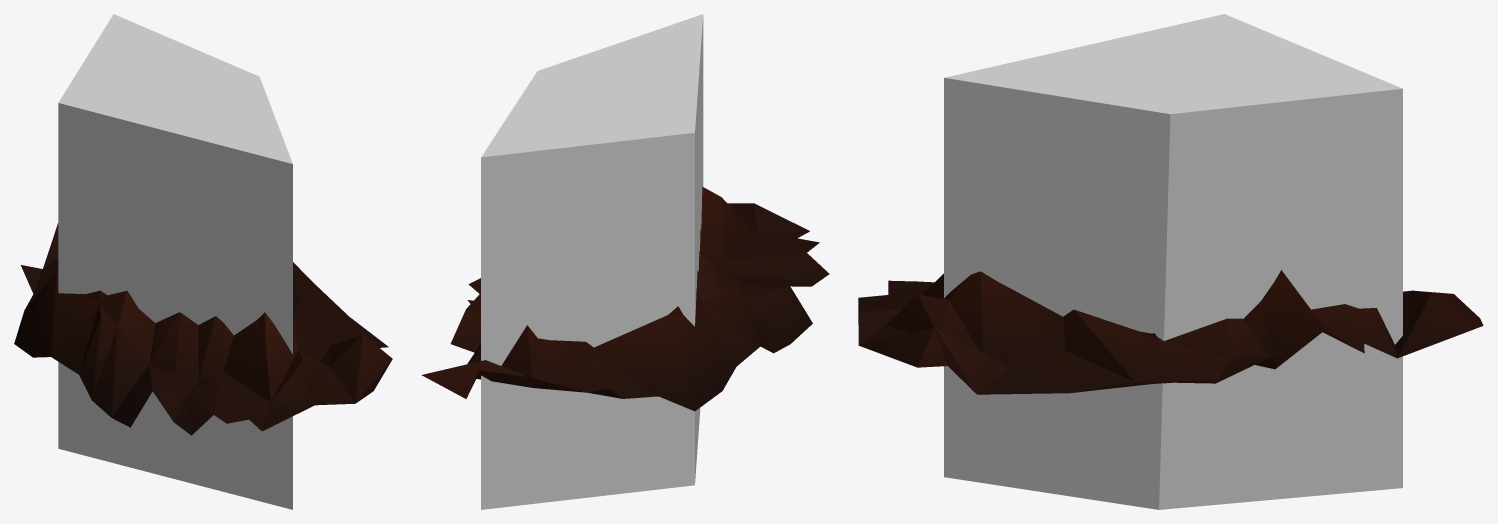
File: island_small_volcanic_Collection_4.fbx
3 views of the same model, side by side, from view 1: azimuth 30°, elevation 25°; view 2: azimuth 150°, elevation 25°; view 3: azimuth 270°, elevation 25° (orthographic). The views are drawn at different scales.
Visible parts, largest first — view 1: islandRock_4_col, islandRock_4; view 2: islandRock_4_col, islandRock_4; view 3: islandRock_4_col, islandRock_4.
Part boxes in pixels (x1,y1,x2,y2): islandRock_4_col: (58,14,292,509); islandRock_4: (14,223,392,435); islandRock_4_col: (481,14,703,509); islandRock_4: (421,186,829,411); islandRock_4_col: (944,14,1402,509); islandRock_4: (858,270,1483,394).
Size of the model in its own units: 1933 by 2530 by 3589.
